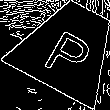P_NE: (39, 17, 99, 79)
